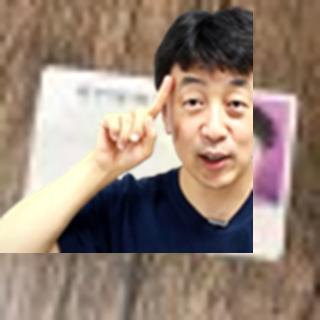IRRITATED: (91, 72, 174, 177)
